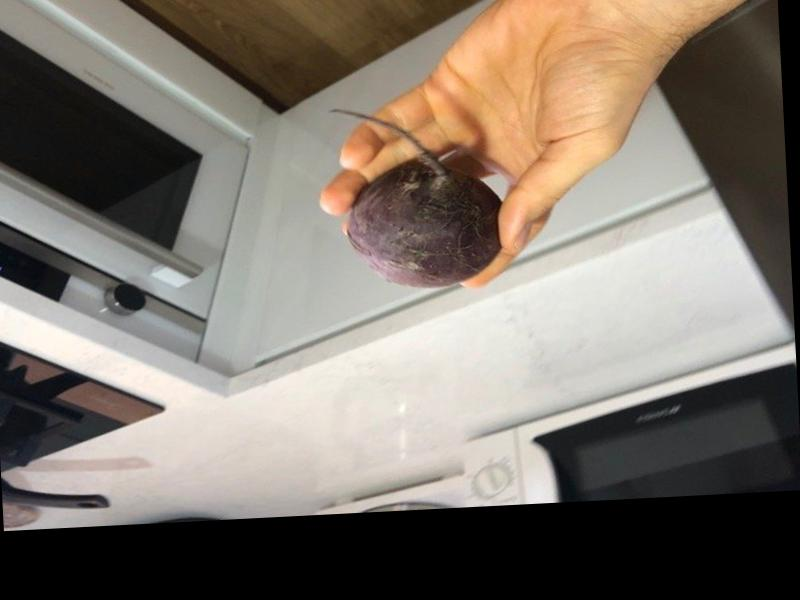Beet: (325, 99, 505, 292)
